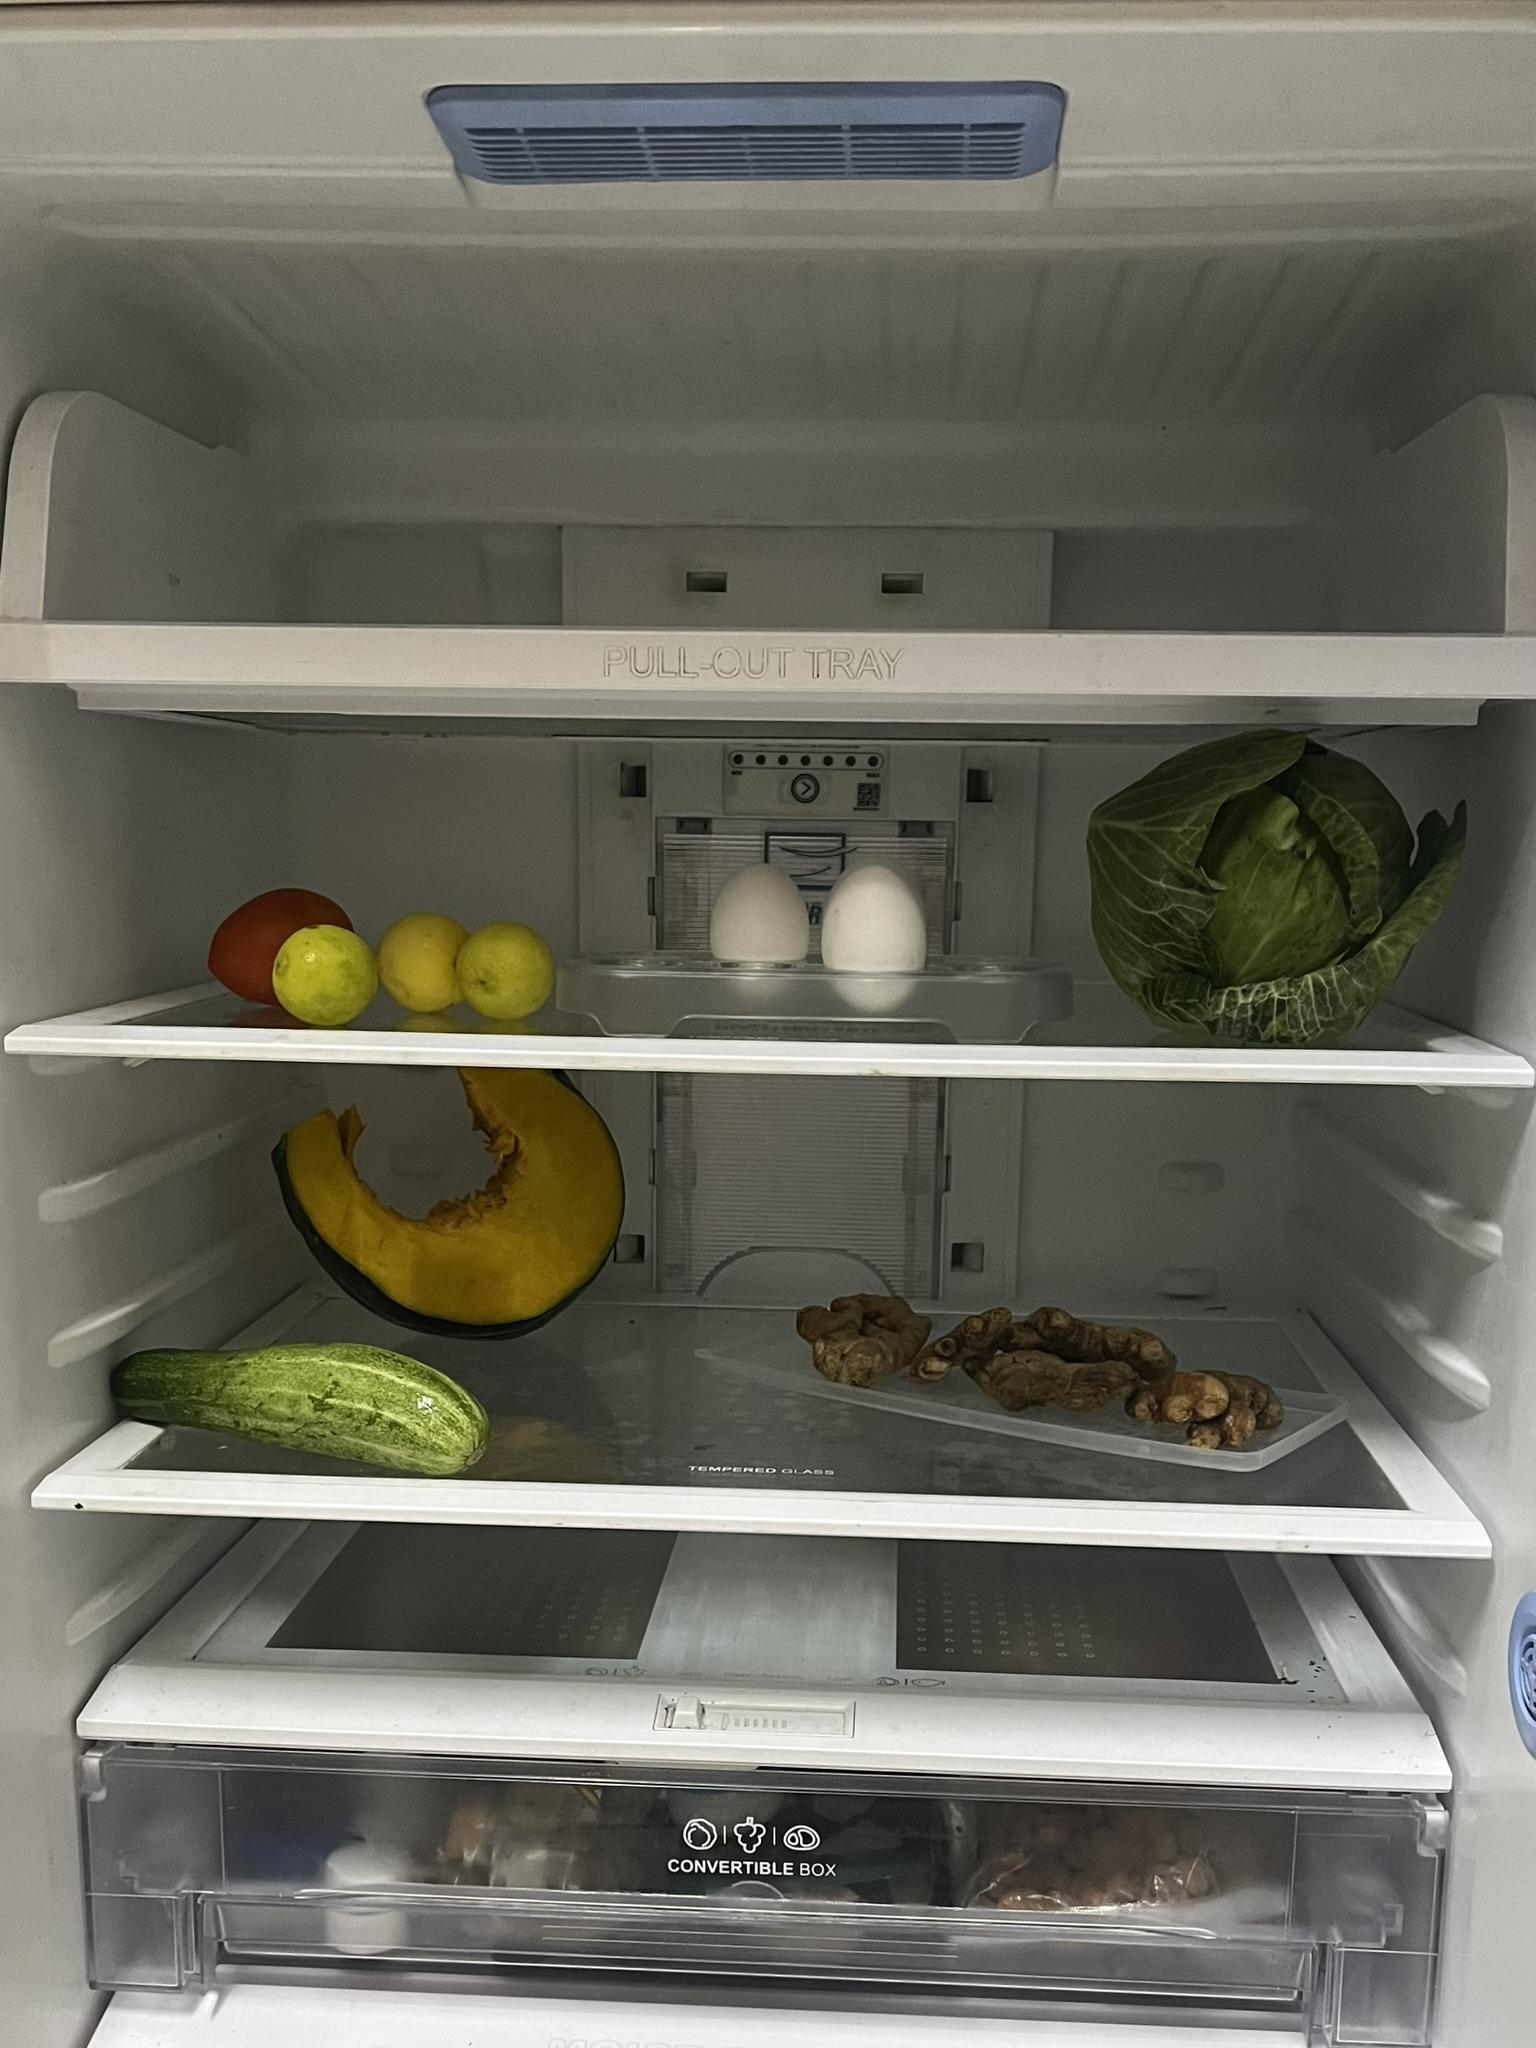cabbage: (1083, 727, 1460, 1043)
cucumber: (116, 1334, 487, 1474)
egg: (707, 853, 937, 1006)
ginger: (807, 1277, 1279, 1459)
lemon: (381, 921, 566, 1024), (273, 921, 373, 1024)
pumpkin: (273, 1071, 637, 1347)
tomato: (203, 880, 350, 987)
